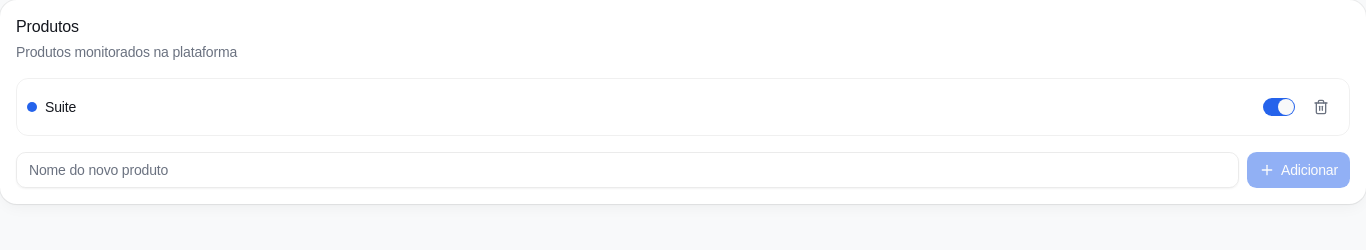
Test: ProductsSettings › exibe erro quando a exclusão falha
Click the button named "Excluir Suite" at (1321, 107), box 1303,89 -> 1339,125
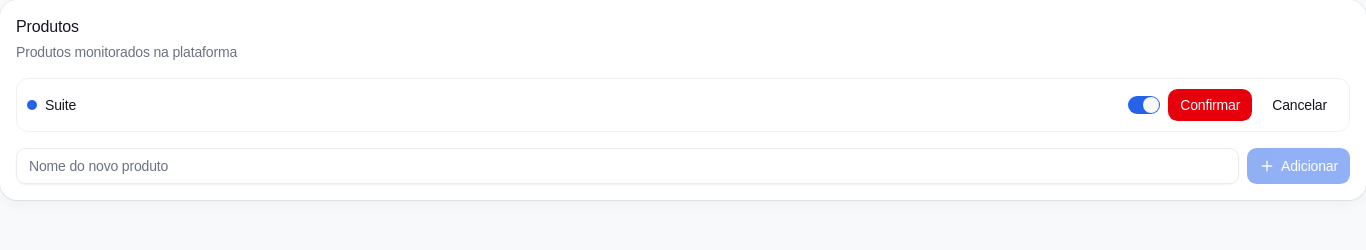
Click the button "Confirmar" at (1210, 105), box 1168,89 -> 1252,121
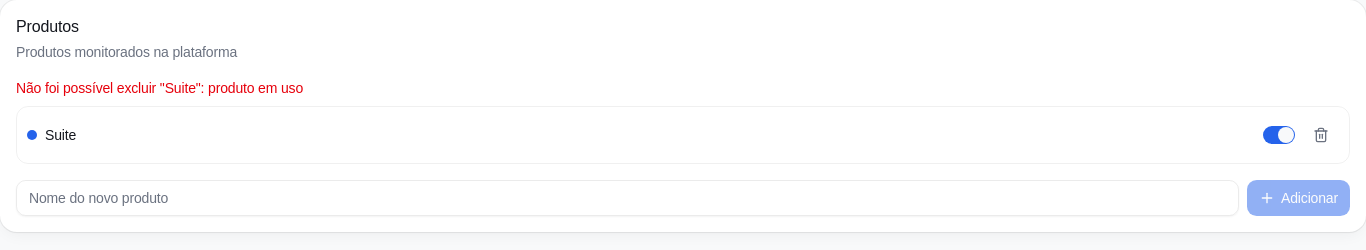
Check: the message shows "produto em uso", box 16,80 -> 303,96
